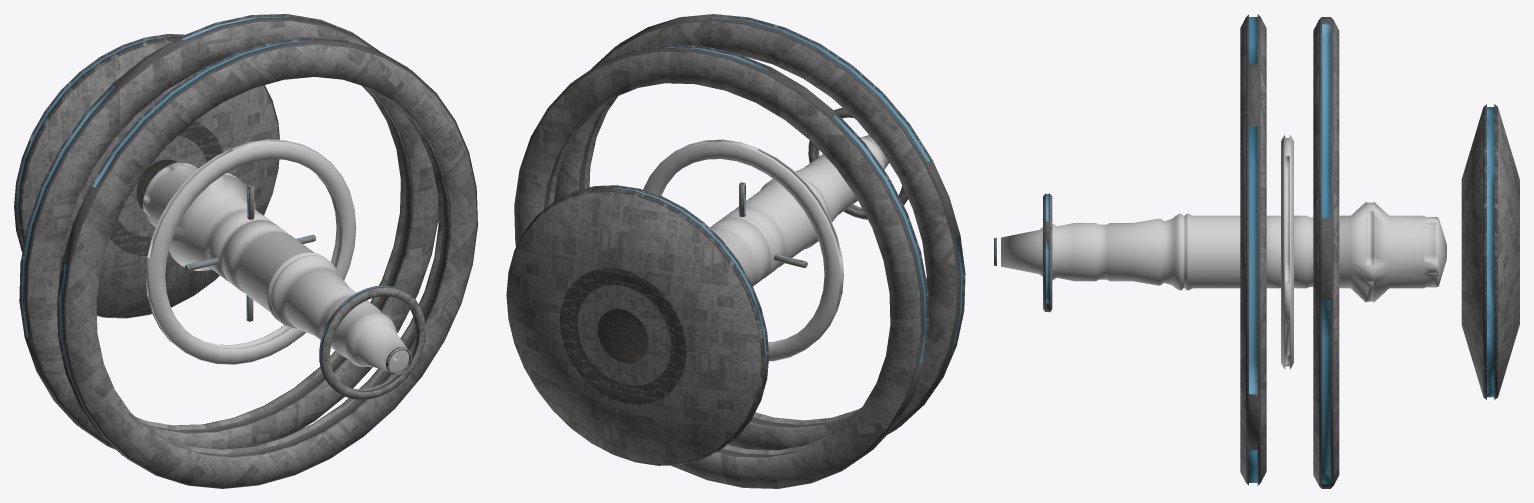
Rendered from Station.fbx.
3 renders of one model, left to right at view 1: azimuth 30°, elevation 25°; view 2: azimuth 150°, elevation 25°; view 3: azimuth 270°, elevation 25°, orthographic.
Parts seen in each view (by area): view 1: StationAnneauPrincipal2, StationAnneauPrincipal1, StationCoupoleSuperieur, StationPilierPrincipal, StationHangar, StationAnneauInferieur, StationTunnels; view 2: StationCoupoleSuperieur, StationAnneauPrincipal1, StationAnneauPrincipal2, StationPilierPrincipal, StationHangar, StationAnneauInferieur, StationTunnels; view 3: StationPilierPrincipal, StationCoupoleSuperieur, StationAnneauPrincipal1, StationAnneauPrincipal2, StationHangar, StationAnneauInferieur.
Part boxes in pixels (x1,y1,x2,y2): StationAnneauPrincipal2: (57, 37, 477, 488); StationAnneauPrincipal1: (19, 14, 438, 449); StationCoupoleSuperieur: (14, 34, 279, 318); StationPilierPrincipal: (143, 162, 409, 371); StationHangar: (145, 139, 356, 364); StationAnneauInferieur: (319, 285, 425, 399); StationTunnels: (185, 184, 315, 321); StationCoupoleSuperieur: (506, 185, 769, 465); StationAnneauPrincipal1: (514, 44, 929, 488); StationAnneauPrincipal2: (554, 14, 965, 450); StationPilierPrincipal: (710, 135, 888, 286); StationHangar: (643, 139, 843, 361); StationAnneauInferieur: (808, 108, 907, 219); StationTunnels: (739, 182, 807, 267); StationPilierPrincipal: (1001, 201, 1446, 302); StationCoupoleSuperieur: (1461, 104, 1519, 399); StationAnneauPrincipal1: (1313, 17, 1339, 488); StationAnneauPrincipal2: (1240, 14, 1266, 485); StationHangar: (1281, 135, 1293, 369); StationAnneauInferieur: (1043, 193, 1052, 312).
Size of what is drawn, in the model's own units: 4113 by 4138 by 4581.
